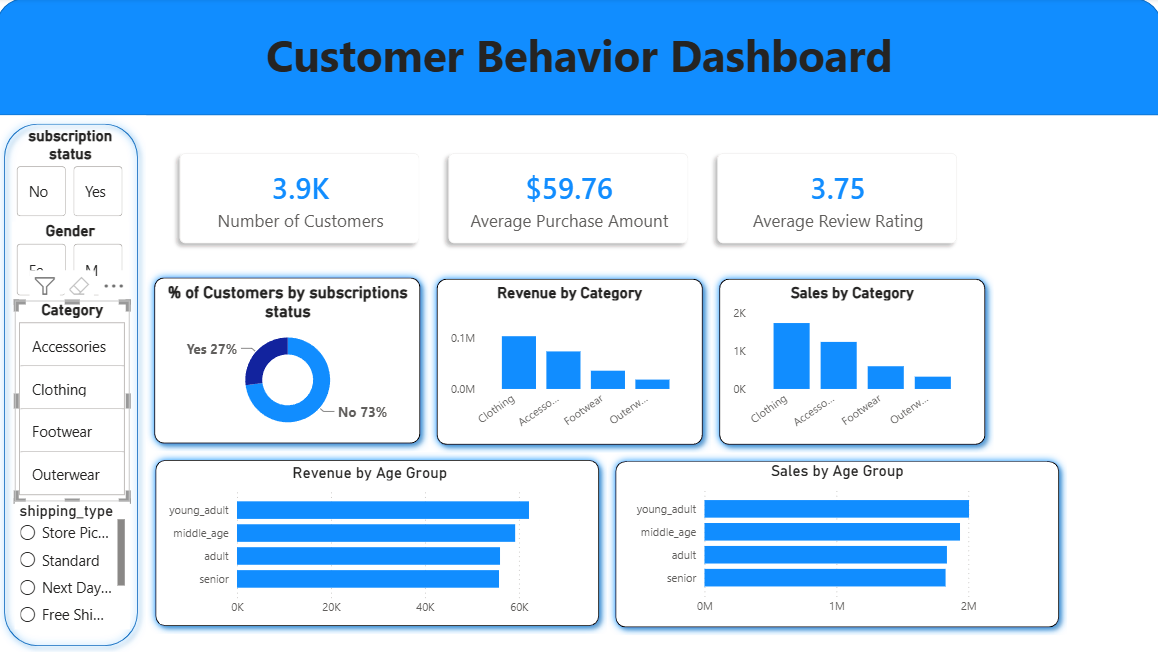

Layout of this report page (visuals, bound fields, positions):
{"tool":"powerbi","page":{"name":"Page 1","canvas":[1280,720],"ordinal":0},"visuals":[{"type":"cardVisual","fields":{"Data":["public customer.Number of Customers","public customer.Average Purchase Amount","public customer.Average Review Rating"]},"box":[172.9,141.3,913.9,157.8],"z":0},{"type":"shape","box":[0,0,1280.3,129],"z":1000},{"type":"textbox","box":[0,24.7,1280.3,82.3],"z":2000},{"type":"shape","box":[164.7,297.8,310.1,200.3],"z":3000},{"type":"donutChart","title":"% of Customers by subscriptions status","fields":{"Category":["public customer.subscription_status"],"Y":["CountNonNull(public customer.customer_id)"]},"box":[182.5,312.9,275.8,171.5],"z":4000},{"type":"shape","box":[474.8,299.1,310.1,200.3],"z":5000},{"type":"shape","box":[784.9,299.1,310.1,200.3],"z":6000},{"type":"clusteredColumnChart","title":"Revenue by Category","fields":{"Y":["Sum(public customer.purchase_amount)"],"Category":["public customer.category"]},"box":[494,312.9,271.7,171.5],"z":7000},{"type":"clusteredColumnChart","title":"Sales by Category","fields":{"Y":["CountNonNull(public customer.customer_id)"],"Category":["public customer.category"]},"box":[804.1,312.9,271.7,171.5],"z":8000},{"type":"shape","box":[0,129,164.7,591.4],"z":9000},{"type":"advancedSlicerVisual","title":"subscription status","fields":{"Values":["public customer.subscription_status"]},"box":[17.8,141.3,127.6,104.3],"z":10000},{"type":"advancedSlicerVisual","title":"Gender","fields":{"Values":["public customer.gender"]},"box":[17.8,245.6,127.6,86.4],"z":11000},{"type":"advancedSlicerVisual","title":"Category","fields":{"Values":["public customer.category"]},"box":[20.6,332.1,126.2,220.9],"z":11001},{"type":"listSlicer","fields":{"Values":["public customer.shipping_type"]},"box":[20.6,553,126.2,140],"z":11002},{"type":"shape","box":[166,498.1,505,200.3],"z":11004},{"type":"clusteredBarChart","title":"Revenue by Age Group","fields":{"Y":["Sum(public customer.purchase_amount)"],"Category":["public customer.age_group"]},"box":[179.8,510.5,461.1,177],"z":11005},{"type":"shape","box":[671,499.5,505,200.3],"z":11006},{"type":"clusteredBarChart","title":"Sales by Age Group","fields":{"Y":["Sum(public customer.customer_id)"],"Category":["public customer.age_group"]},"box":[693,509.1,461.1,177],"z":11007}]}

Visuals, with their boxes in screenshot pixels (x1, y1, x2, y2), scaled from the page's 1280x720 canvas onto the 1158x652 screenshot:
cardVisual - public customer.Number of Customers x public customer.Average Purchase Amount: (x1=156, y1=128, x2=983, y2=271)
shape: (x1=0, y1=0, x2=1157, y2=117)
textbox: (x1=0, y1=22, x2=1157, y2=97)
shape: (x1=149, y1=270, x2=430, y2=451)
"% of Customers by subscriptions status" donutChart: (x1=165, y1=283, x2=415, y2=439)
shape: (x1=430, y1=271, x2=710, y2=452)
shape: (x1=710, y1=271, x2=991, y2=452)
"Revenue by Category" clusteredColumnChart: (x1=447, y1=283, x2=693, y2=439)
"Sales by Category" clusteredColumnChart: (x1=727, y1=283, x2=973, y2=439)
shape: (x1=0, y1=117, x2=149, y2=651)
"subscription status" advancedSlicerVisual: (x1=16, y1=128, x2=132, y2=222)
"Gender" advancedSlicerVisual: (x1=16, y1=222, x2=132, y2=301)
"Category" advancedSlicerVisual: (x1=19, y1=301, x2=133, y2=501)
listSlicer - public customer.shipping_type: (x1=19, y1=501, x2=133, y2=628)
shape: (x1=150, y1=451, x2=607, y2=632)
"Revenue by Age Group" clusteredBarChart: (x1=163, y1=462, x2=580, y2=623)
shape: (x1=607, y1=452, x2=1064, y2=634)
"Sales by Age Group" clusteredBarChart: (x1=627, y1=461, x2=1044, y2=621)
